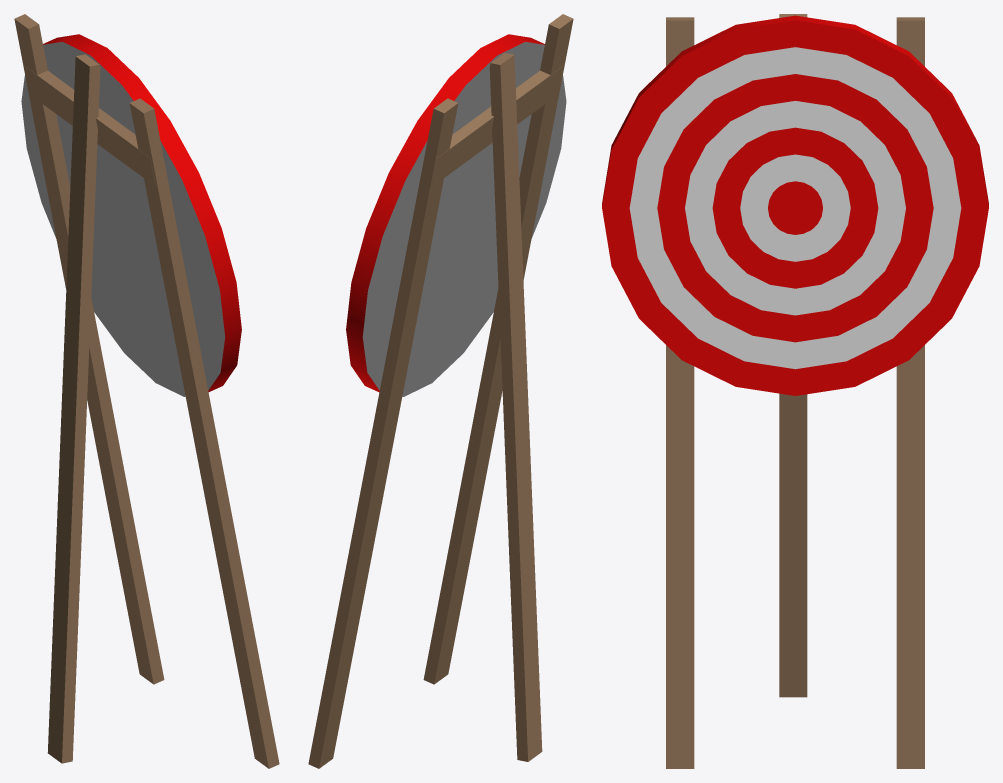
Rendered from marker.fbx.
3 views of the same model, side by side, from view 1: azimuth 30°, elevation 25°; view 2: azimuth 150°, elevation 25°; view 3: azimuth 270°, elevation 25° (orthographic).
Parts seen in each view (by area): view 1: marker; view 2: marker; view 3: marker.
Boxes of the visible parts, x1,y1,x2,y2 form: marker: [14, 14, 279, 768]; marker: [308, 14, 573, 768]; marker: [602, 14, 988, 768].
Bounding box in the file's own units: 89.74 × 371 × 186.
